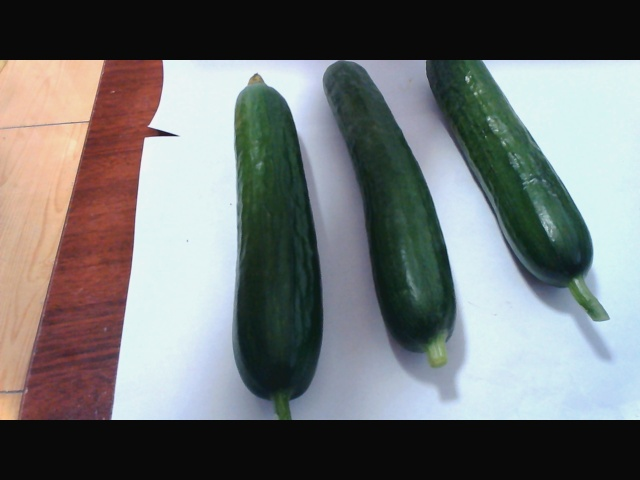cucumber: (428, 58, 613, 308), (322, 59, 454, 363), (218, 65, 321, 417)
